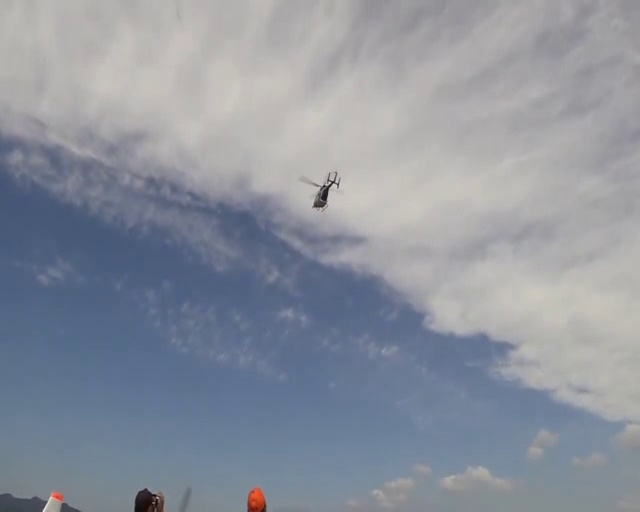HELICOPTER: (298, 170, 341, 210)
